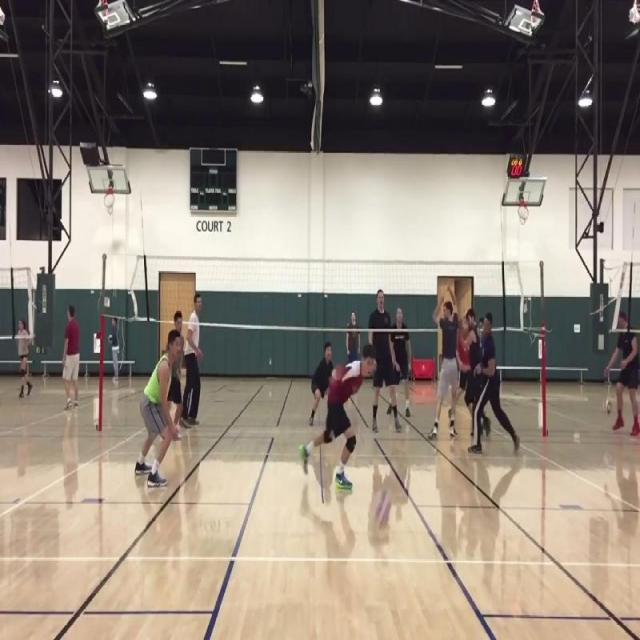volleyball: (373, 498, 390, 530)
